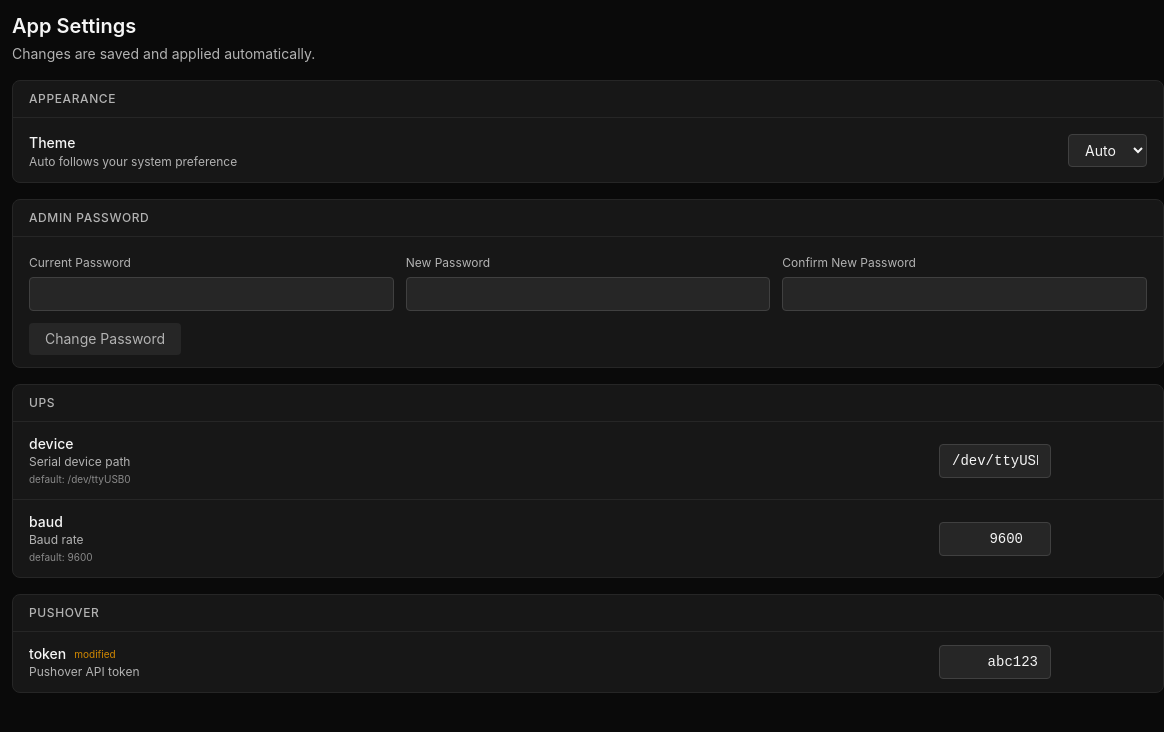
Test: AppConfig › shows success message on password change
Check: the button "Change Password" is shown, box [29, 323, 181, 355]
Type "oldpass" into the password field below "Current Password". click: (211, 294)
box: [29, 277, 394, 311]
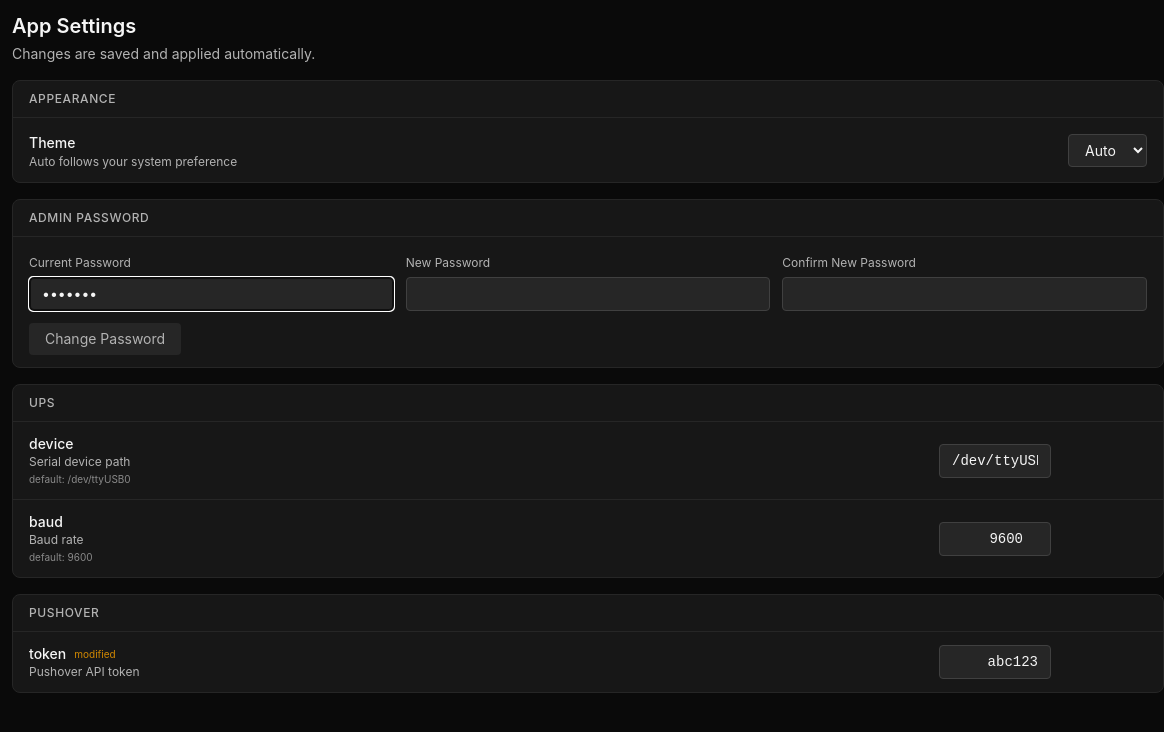
Type "newpass1" into the 2nd password field. click: (588, 294)
box: [406, 277, 770, 311]
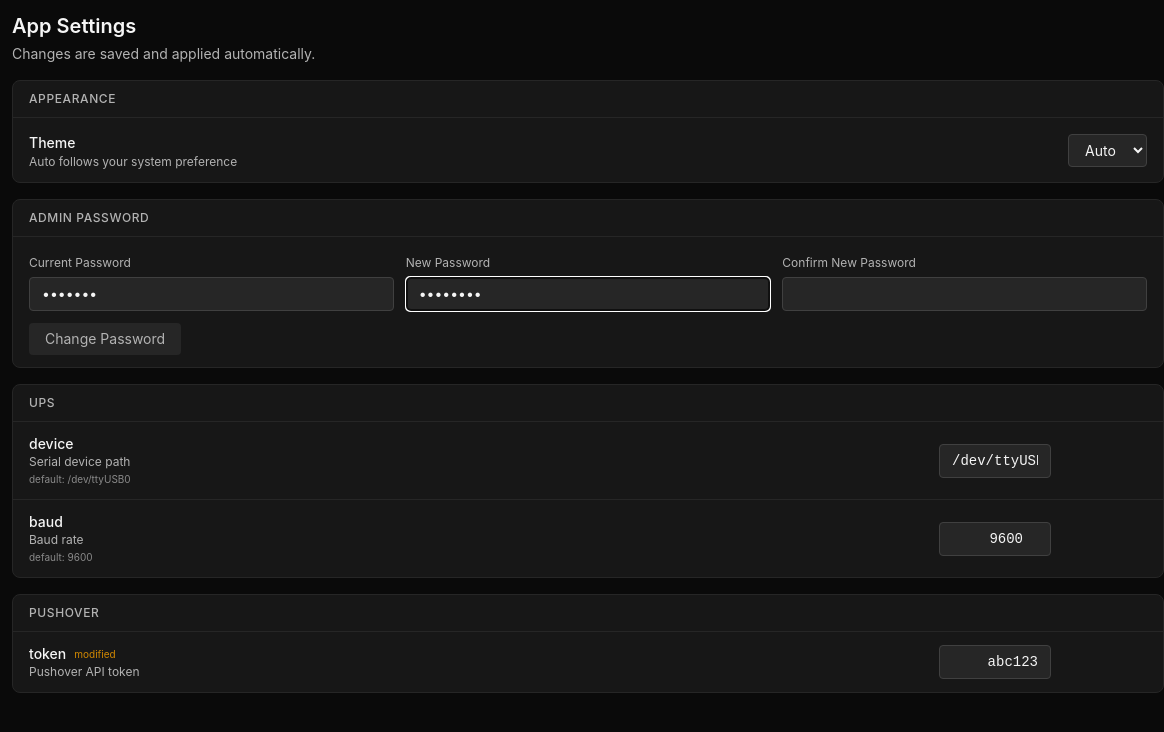
Type "newpass1" into the password field below "Confirm New Password". click: (965, 294)
box: [782, 277, 1147, 311]
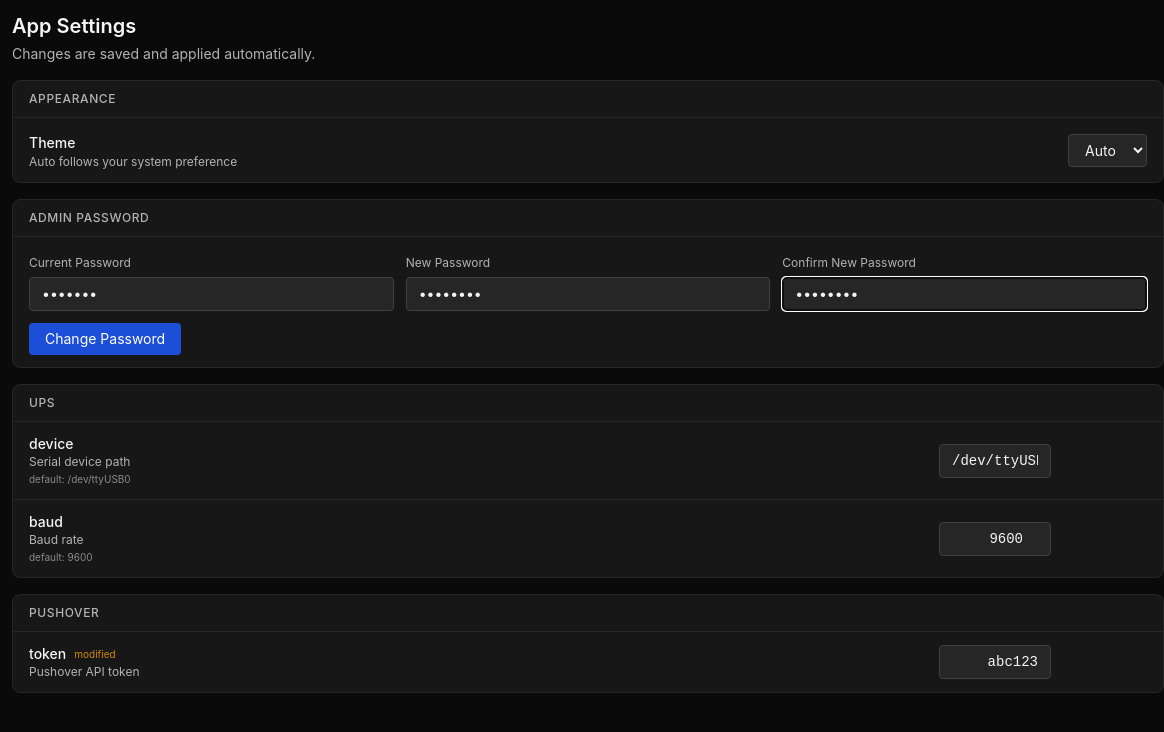
Click the button "Change Password". click: (105, 339)
box: [29, 323, 181, 355]
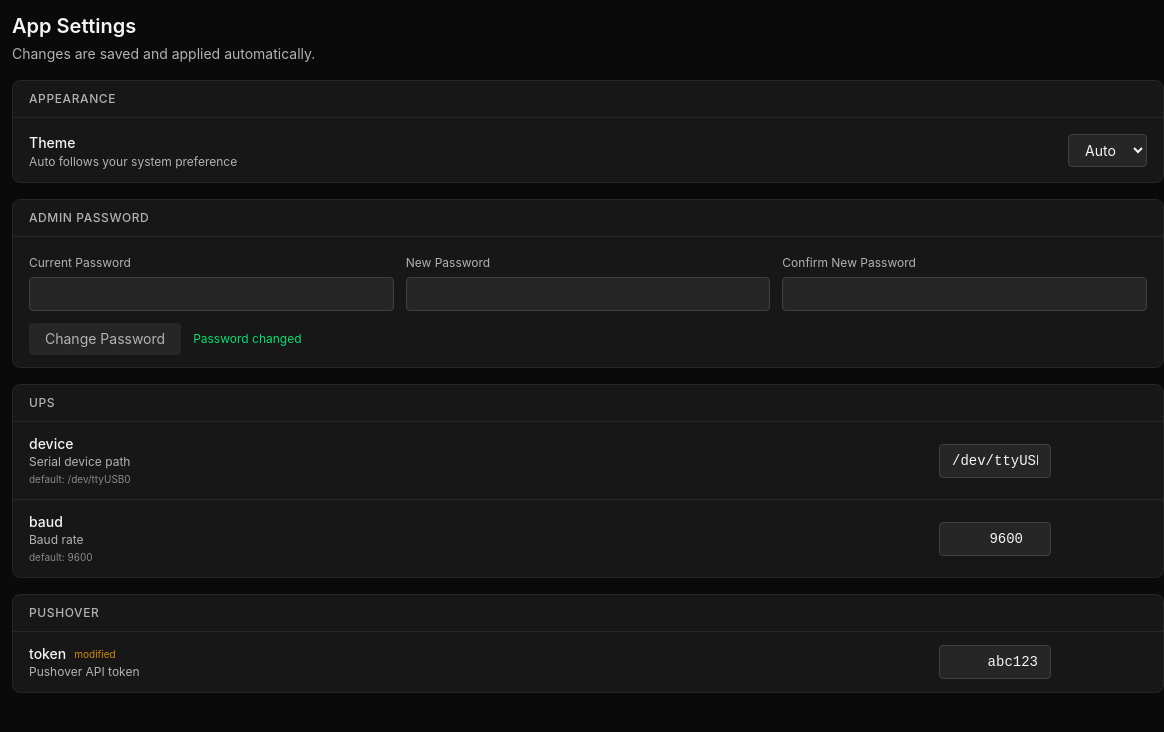
Check: the text "Password changed" is shown, box [193, 331, 302, 347]
